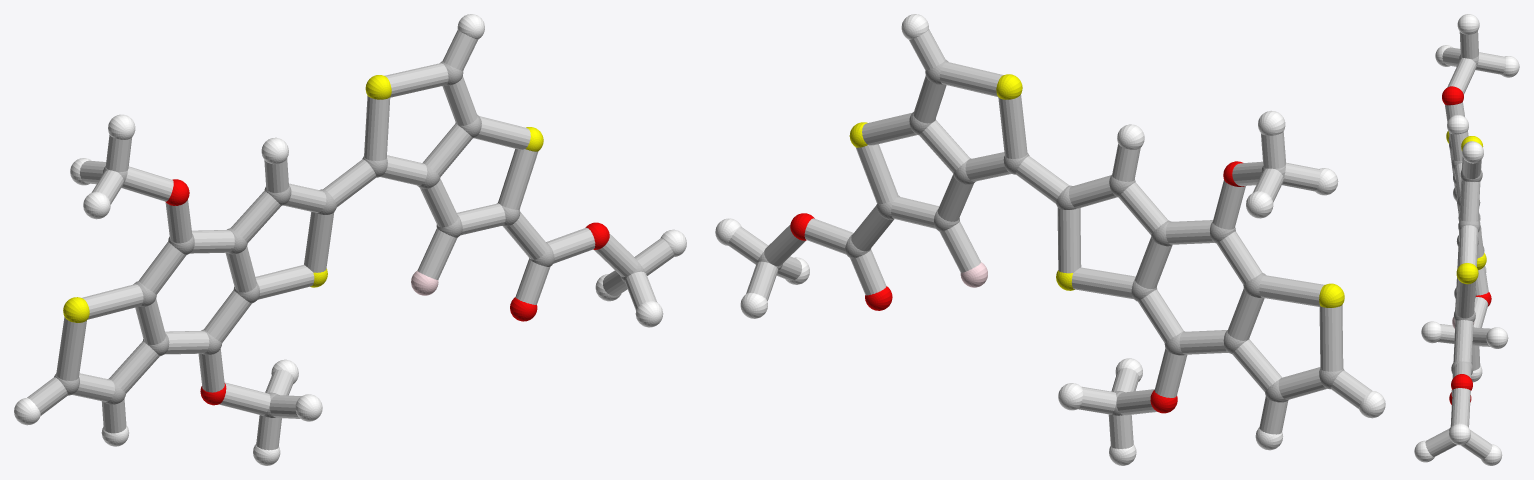
File: color.glb
3 views of the same model, side by side, from view 1: azimuth 30°, elevation 25°; view 2: azimuth 150°, elevation 25°; view 3: azimuth 270°, elevation 25° (orthographic). The views are drawn at different scales.
Visible parts, largest first — view 1: grp15205, grp8689, grp1, grp13395, grp7241; view 2: grp15205, grp8689, grp1, grp7241, grp13395; view 3: grp15205, grp8689, grp1, grp13395, grp7241.
Boxes of the visible parts, <box> form: grp15205: <box>27,29,674,450</box>; grp8689: <box>14,14,686,465</box>; grp1: <box>54,61,645,417</box>; grp13395: <box>165,179,609,405</box>; grp7241: <box>63,75,543,322</box>; grp15205: <box>728,29,1371,448</box>; grp8689: <box>715,14,1385,465</box>; grp1: <box>757,59,1344,415</box>; grp7241: <box>849,74,1344,307</box>; grp13395: <box>790,161,1244,413</box>; grp15205: <box>1425,31,1505,459</box>; grp8689: <box>1414,14,1519,465</box>; grp1: <box>1449,54,1484,430</box>; grp13395: <box>1442,86,1491,404</box>; grp7241: <box>1446,131,1486,284</box>.
Bounding box in the file's own units: 16.78 × 9.58 × 2.86.
